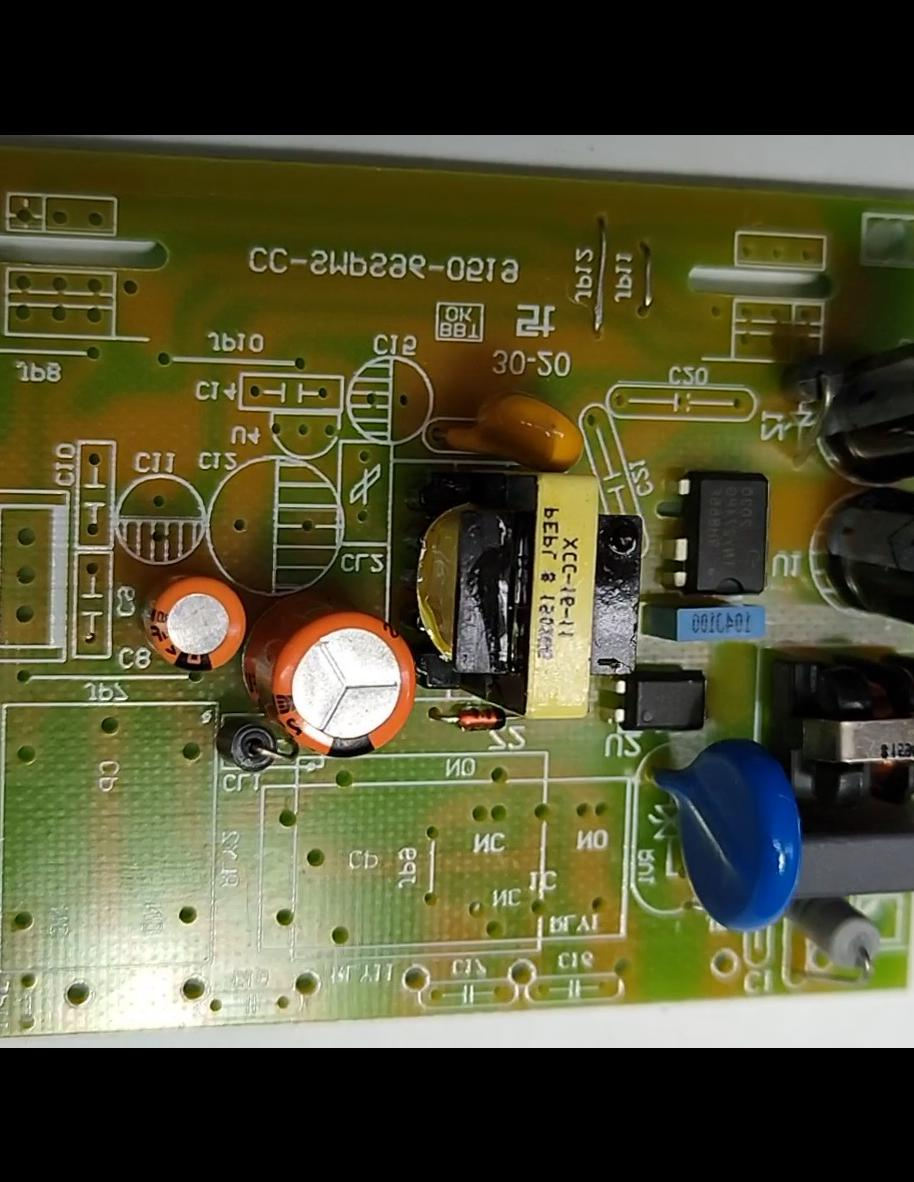Cap1: (237, 596, 429, 773)
Cap2: (139, 574, 253, 679)
Cap3: (805, 480, 913, 651)
Cap4: (803, 320, 913, 485)
MOSFET: (659, 468, 773, 597)
Mov: (641, 736, 807, 935)
Resistor: (791, 888, 893, 981)
Transformer: (389, 460, 609, 729), (771, 660, 913, 830)
